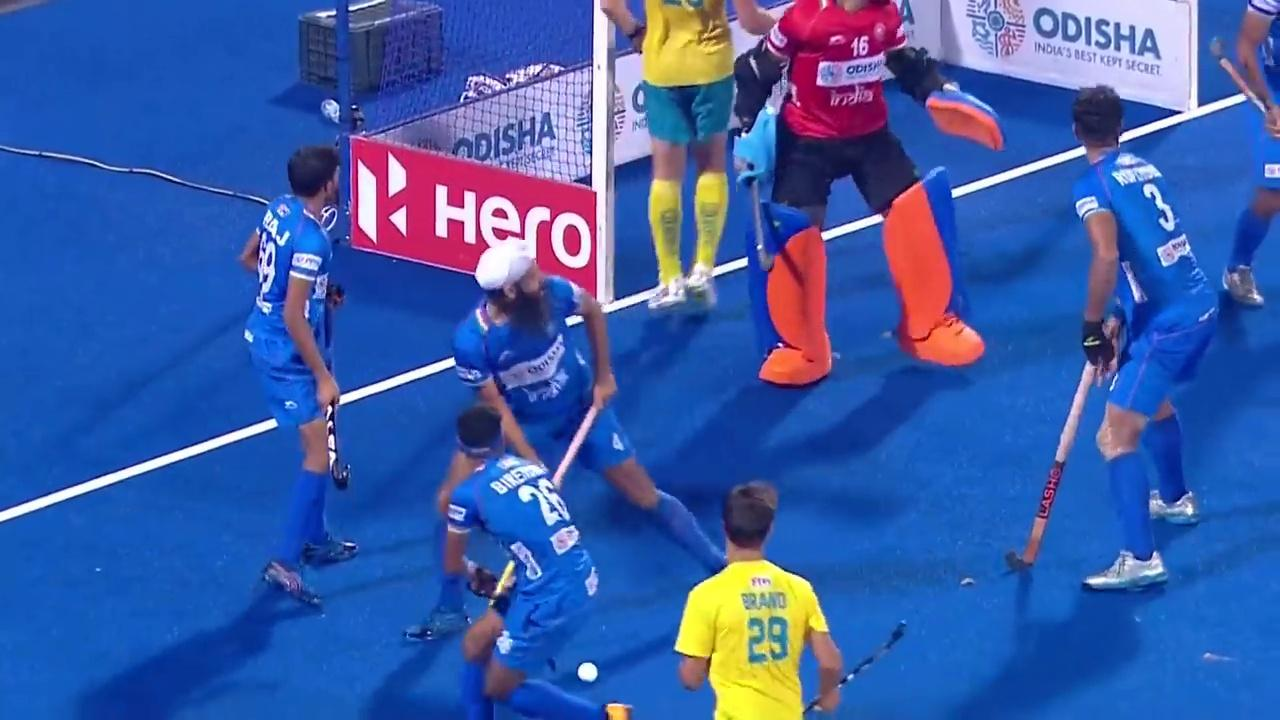ball: (560, 655, 614, 691)
